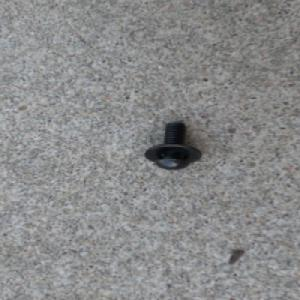BoltWasher: (142, 120, 202, 170)
